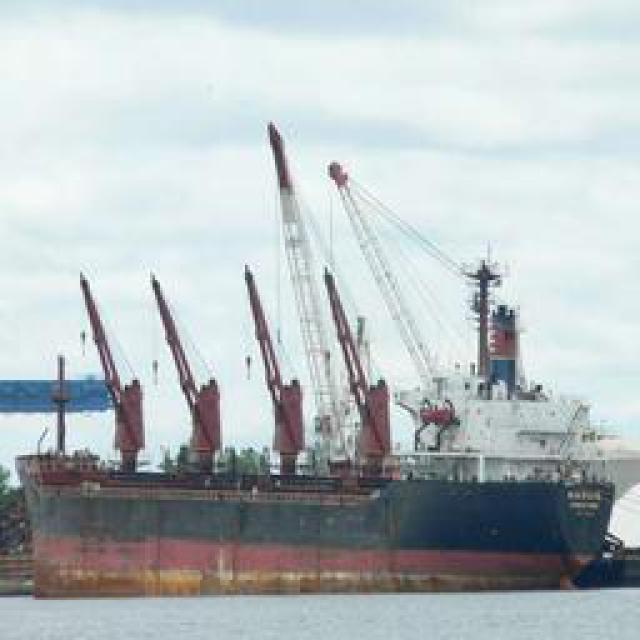Ship: (16, 145, 629, 604)
